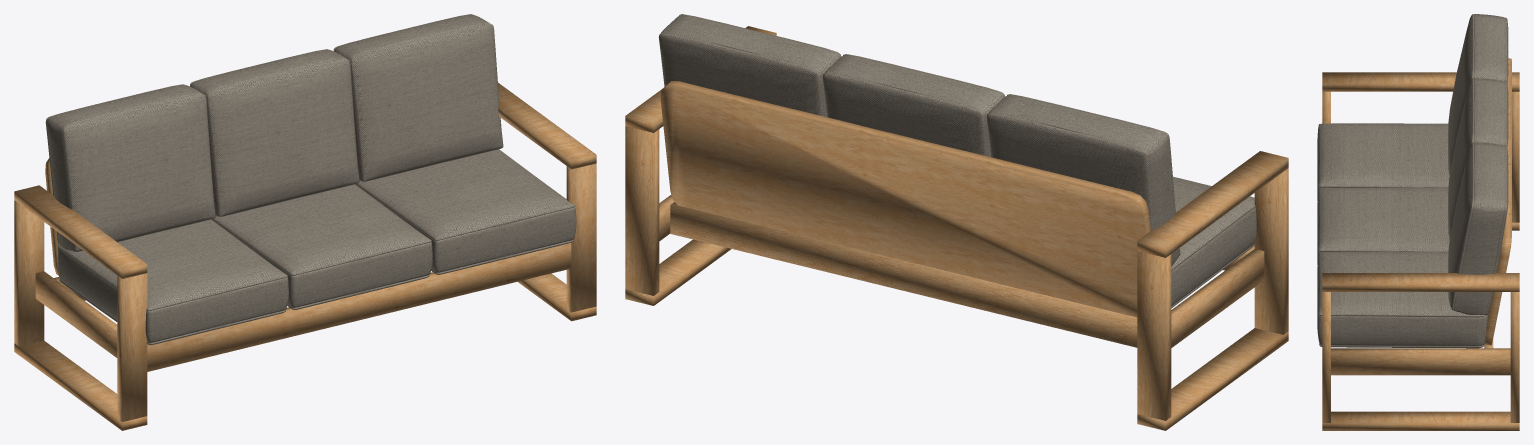
The model's file is design15.obj.
3 renders of one model, left to right at view 1: azimuth 30°, elevation 25°; view 2: azimuth 150°, elevation 25°; view 3: azimuth 270°, elevation 25°, orthographic. The views are drawn at different scales.
Parts seen in each view (by area): view 1: Box081, Box082, Box083, Box079, Box080, Box078, Plane035, Object007, Plane036, Plane037; view 2: Plane039, Plane035, Plane038, Box081, Object007, Box083, Box082, Box078, Plane037; view 3: Box080, Object007, Box078, Box079, Box083, Plane037, Box081, Box082, Plane035, Plane039.
Boxes of the visible parts, bbox=[...] form: Box081: bbox=[45, 84, 215, 251]; Box082: bbox=[190, 49, 359, 216]; Box083: bbox=[333, 14, 503, 181]; Box079: bbox=[212, 184, 432, 309]; Box080: bbox=[355, 149, 576, 274]; Box078: bbox=[57, 219, 288, 344]; Plane035: bbox=[14, 163, 596, 421]; Object007: bbox=[14, 82, 596, 430]; Plane036: bbox=[147, 243, 571, 371]; Plane037: bbox=[35, 271, 117, 357]; Plane039: bbox=[660, 81, 1150, 317]; Plane035: bbox=[625, 126, 1288, 420]; Plane038: bbox=[670, 202, 1137, 347]; Box081: bbox=[986, 94, 1180, 266]; Object007: bbox=[625, 26, 1288, 430]; Box083: bbox=[658, 14, 841, 116]; Box082: bbox=[822, 54, 1005, 156]; Box078: bbox=[1171, 176, 1256, 308]; Plane037: bbox=[659, 195, 1264, 347]; Box080: bbox=[1317, 251, 1488, 348]; Object007: bbox=[1322, 72, 1519, 430]; Box078: bbox=[1317, 123, 1449, 200]; Box079: bbox=[1317, 187, 1449, 264]; Box083: bbox=[1448, 142, 1508, 315]; Plane037: bbox=[1331, 348, 1510, 375]; Box081: bbox=[1448, 14, 1508, 174]; Box082: bbox=[1448, 78, 1508, 238]; Plane035: bbox=[1322, 91, 1519, 422]; Plane039: bbox=[1485, 58, 1511, 345].
Bounding box in the file's own units: 1700 × 820 × 686.
Materials: 2 (2 with a texture image).
